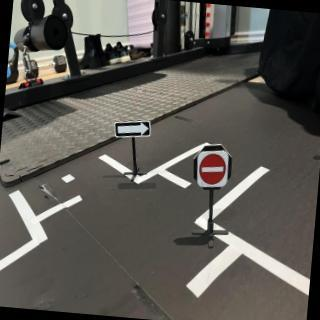sign_noentry: (196, 152, 231, 190)
sign_oneway_right: (114, 117, 153, 143)
